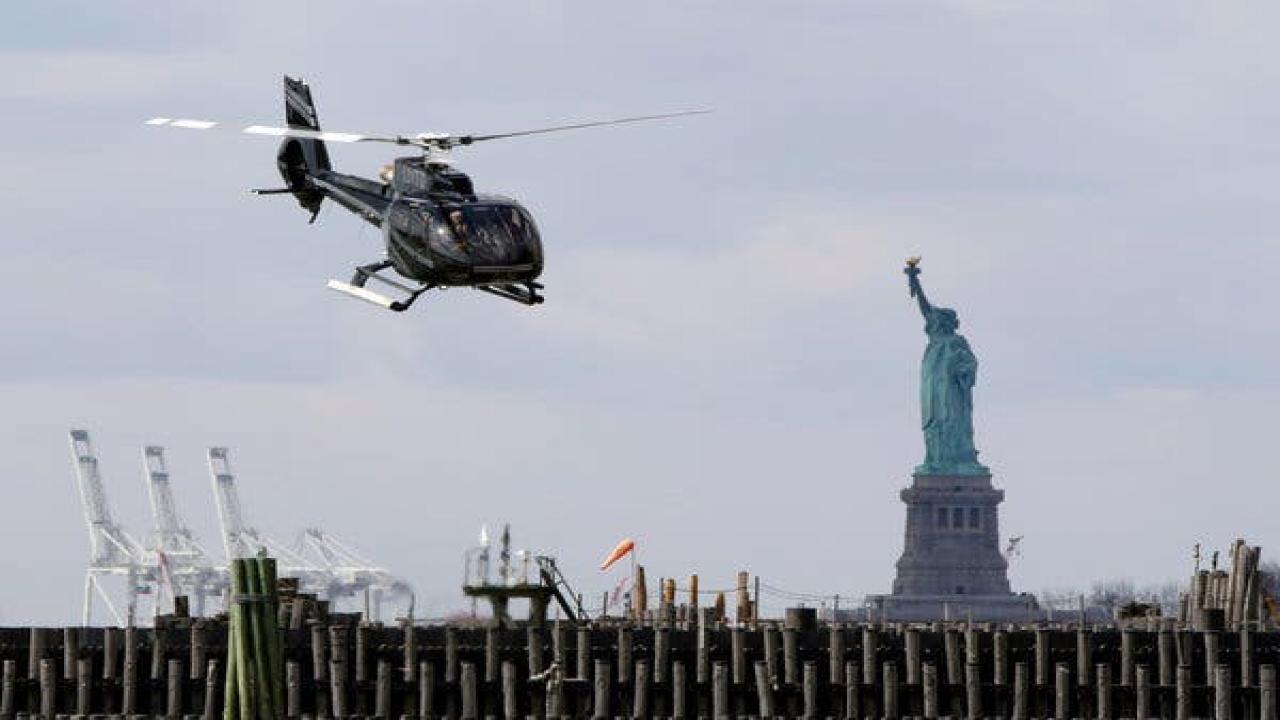Helicopter: (133, 45, 734, 341)
